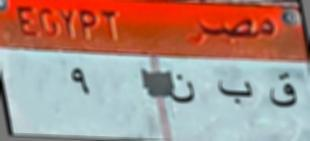9: (67, 66, 92, 100)
baa: (209, 78, 259, 110)
noon: (165, 74, 201, 110)
qaaf: (264, 66, 302, 114)
